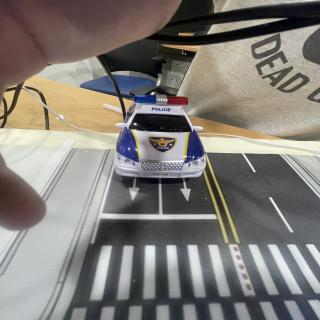Police_car: (114, 95, 206, 178)
